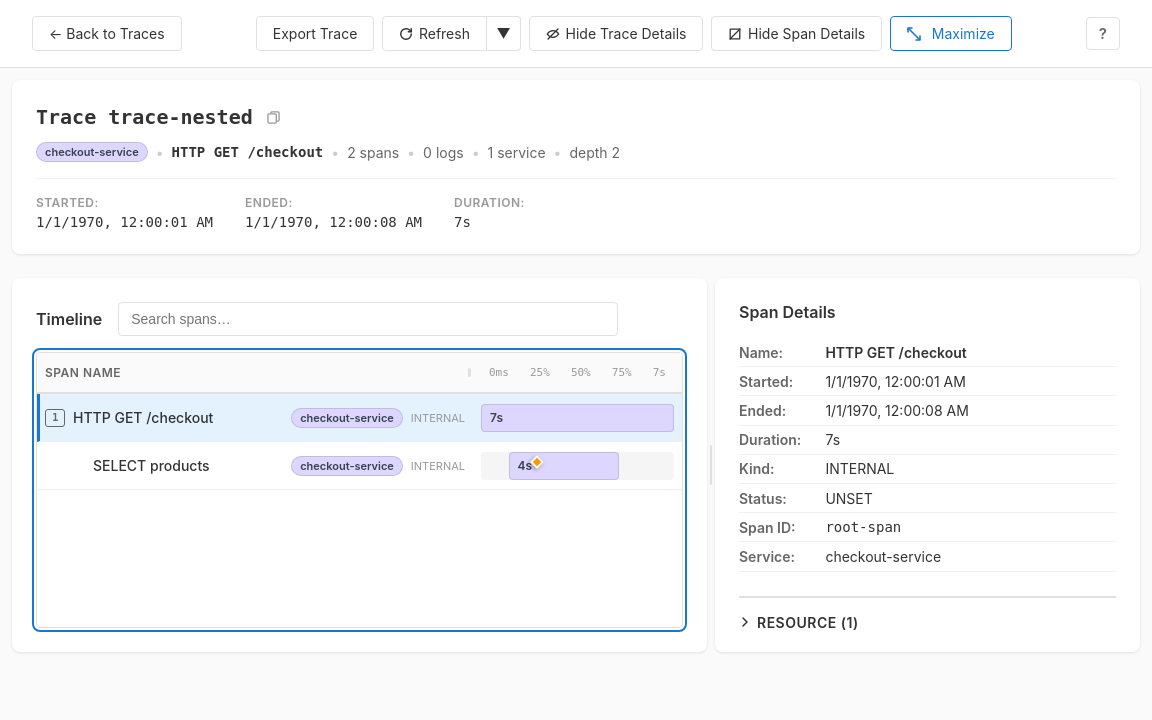
finds matches in collapsed descendant spans and shows match count
Expected: the text "0 logs" is shown, x1=423 y1=144 x2=464 y2=160
Expected: the element showing "SELECT products checkout-service INTERNAL 4s" is shown, x1=37 y1=442 x2=682 y2=490
Click the button named "Collapse" at (55, 418), box x1=45 y1=408 x2=65 y2=426
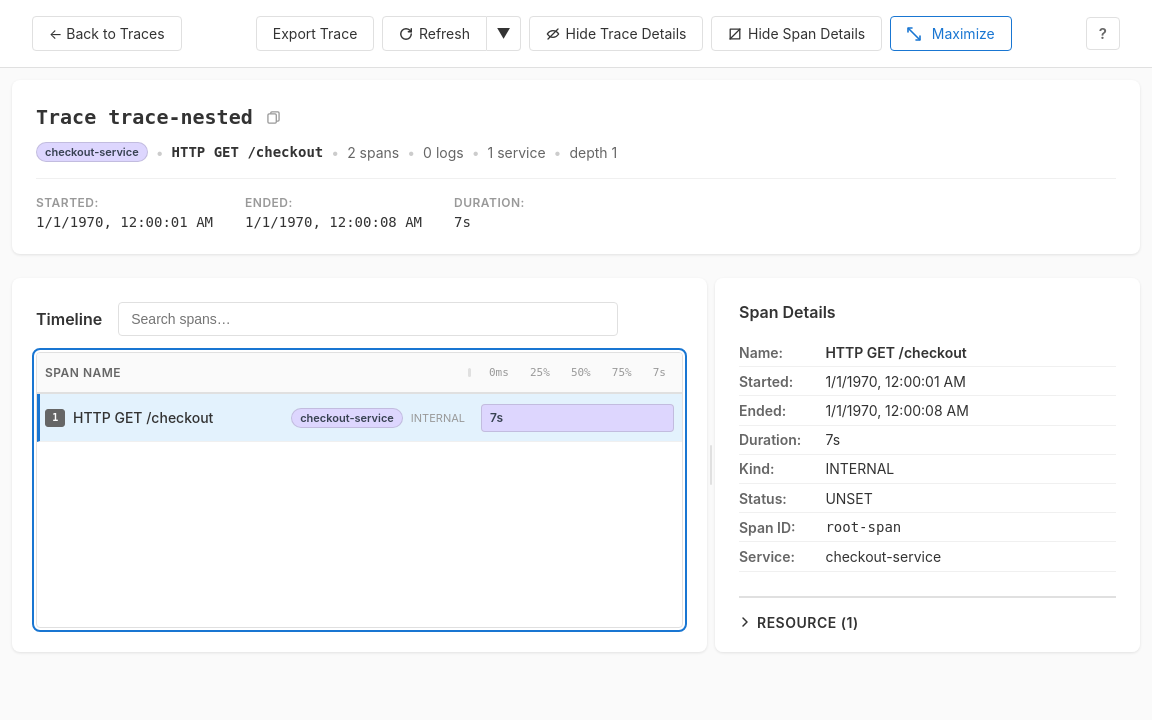
Type "select * from products" into the field with placeholder "Search spans…" at (368, 319), box x1=118 y1=302 x2=618 y2=336
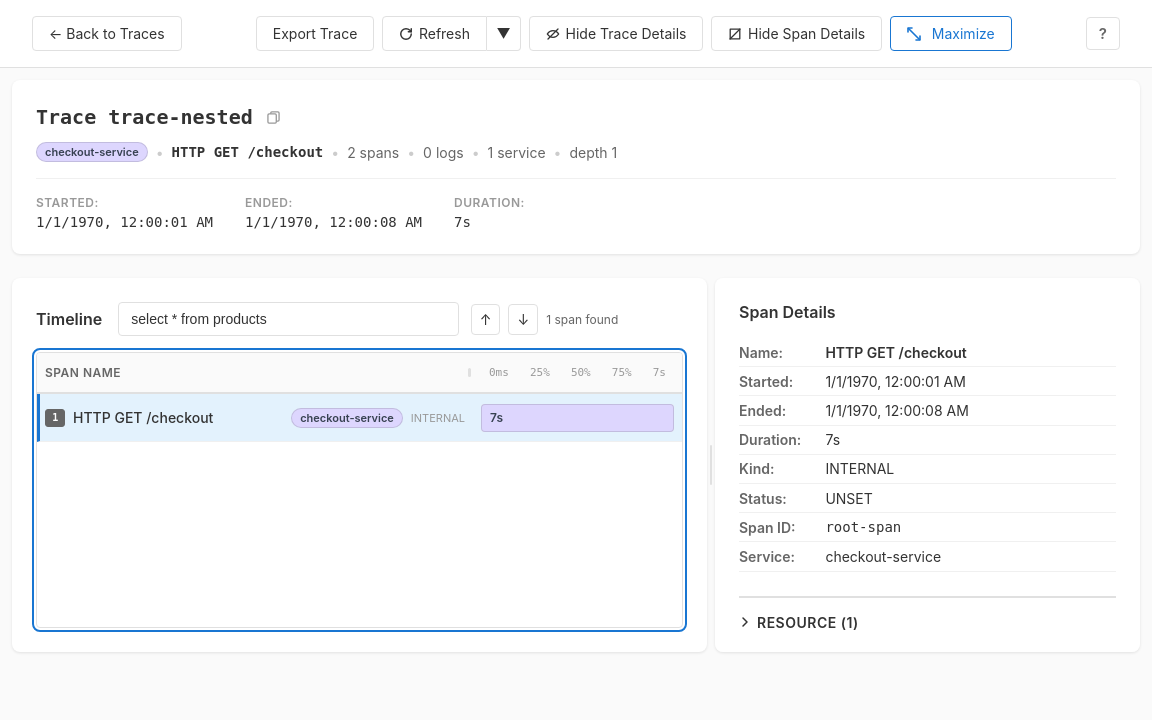
Expected: the text "1 span found" is shown, x1=546 y1=312 x2=618 y2=326
